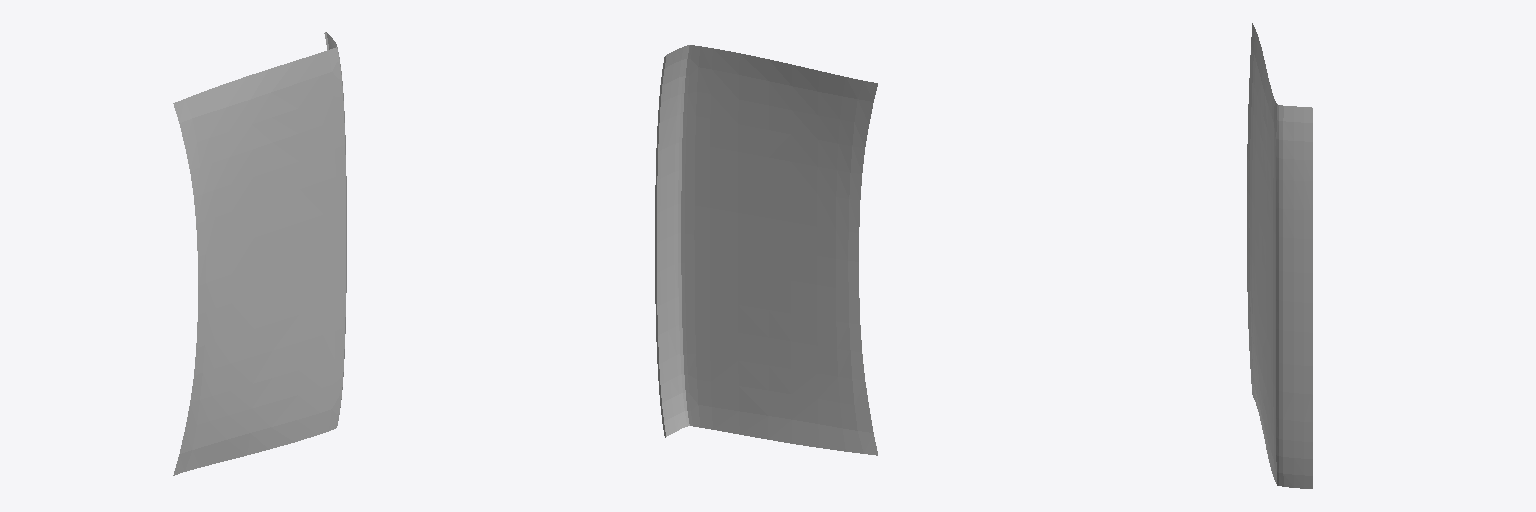
The model's file is trunk.obj.
3 views of the same model, side by side, from view 1: azimuth 30°, elevation 25°; view 2: azimuth 150°, elevation 25°; view 3: azimuth 270°, elevation 25° (orthographic).
Visible parts, largest first — view 1: body_002; view 2: body_002; view 3: body_002.
Boxes of the visible parts, box(x1,y1,x2,y2) form: body_002: box(173, 32, 346, 475); body_002: box(655, 45, 877, 455); body_002: box(1247, 23, 1312, 488).
Bounding box in the file's own units: 27.07 × 51.1 × 8.05.